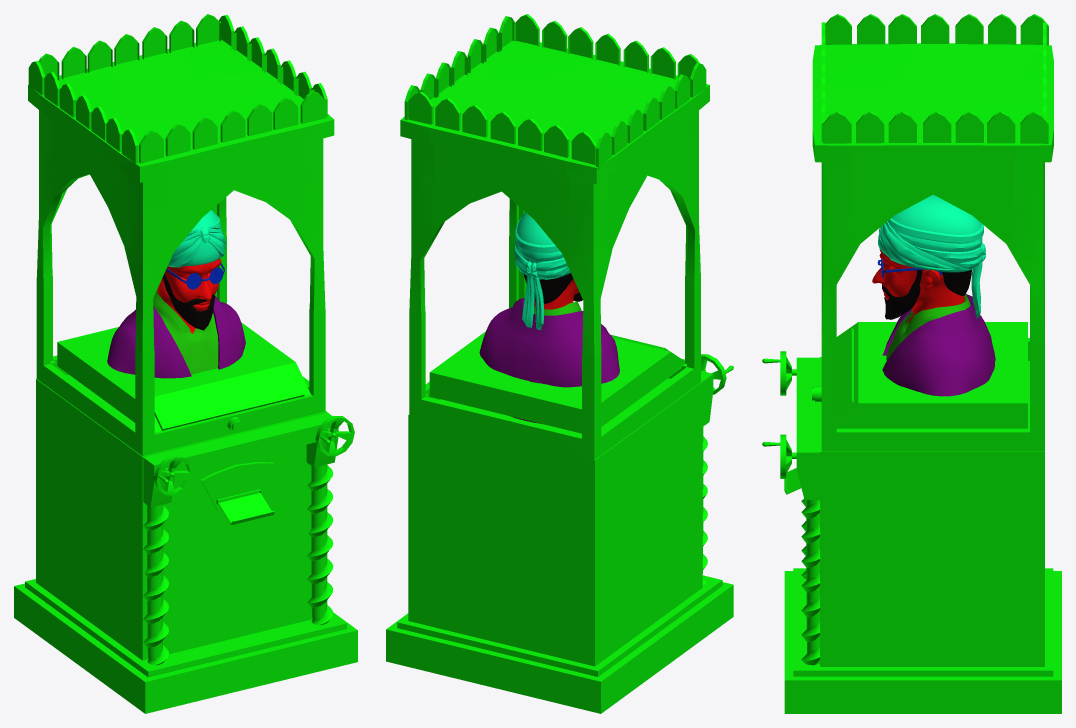
Rendered from zoltar_low.fbx.
The picture shows the model from 3 angles, left to right: view 1: azimuth 30°, elevation 25°; view 2: azimuth 150°, elevation 25°; view 3: azimuth 270°, elevation 25°; orthographic projection. The views are drawn at different scales.
Parts seen in each view (by area): view 1: Box001, Chaqueta_low, Ropa_low, Cap40, cuerpo_low, pelo_low; view 2: Box001, Chaqueta_low, Cap40, pelo_low; view 3: Box001, Chaqueta_low, Cap40, cuerpo_low, pelo_low, Ropa_low.
Boxes of the visible parts, box(x1,y1,x2,y2) form: Box001: box(14, 14, 357, 713); Chaqueta_low: box(107, 296, 245, 378); Ropa_low: box(153, 290, 218, 374); Cap40: box(168, 209, 225, 267); cuerpo_low: box(157, 258, 221, 333); pelo_low: box(162, 273, 214, 330); Box001: box(386, 14, 733, 713); Chaqueta_low: box(479, 298, 619, 423); Cap40: box(514, 212, 570, 329); pelo_low: box(524, 273, 582, 303); Box001: box(762, 14, 1061, 713); Chaqueta_low: box(882, 294, 995, 396); Cap40: box(878, 194, 985, 318); cuerpo_low: box(872, 249, 964, 323); pelo_low: box(882, 269, 971, 319); Ropa_low: box(886, 294, 970, 360).
Size of the model in its own units: 30.4 by 77.03 by 35.18.
